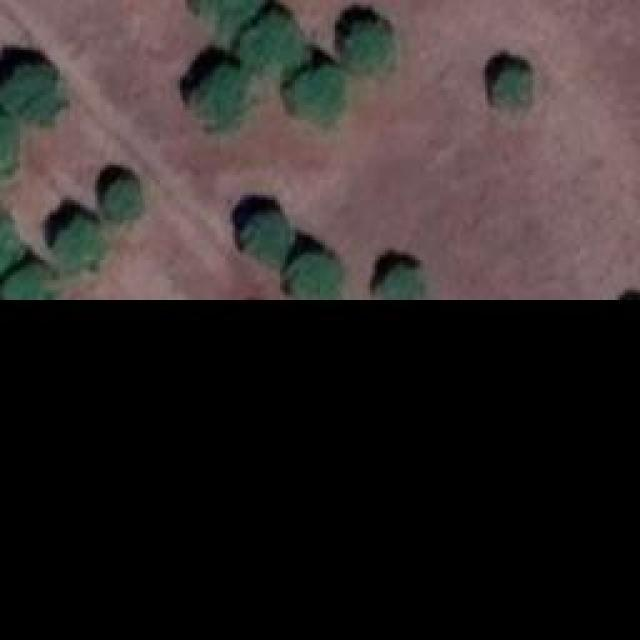Tree: (5, 65, 58, 125), (243, 18, 306, 68), (197, 67, 245, 125), (52, 215, 100, 273), (293, 68, 343, 123), (243, 215, 288, 263), (348, 25, 391, 70), (290, 260, 338, 298), (378, 265, 427, 300), (198, 0, 263, 25), (5, 265, 51, 299), (488, 67, 528, 105), (105, 180, 138, 218), (0, 215, 18, 283), (0, 113, 18, 176)
